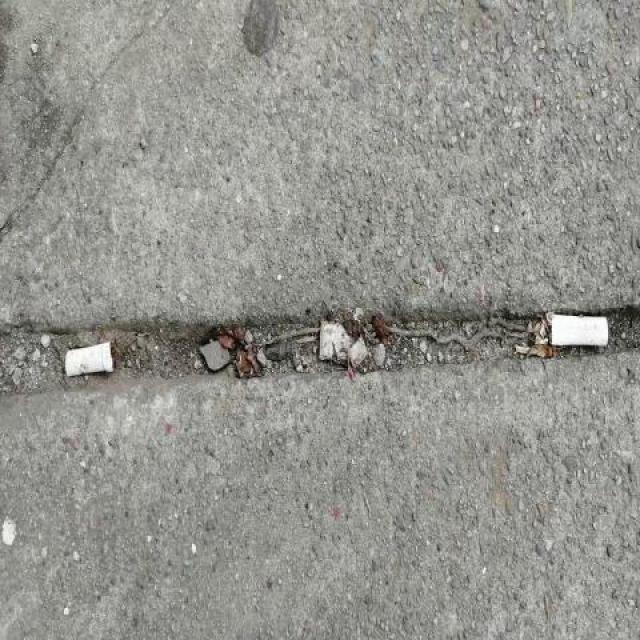non-organic waste: (544, 309, 613, 352), (62, 337, 119, 383)
